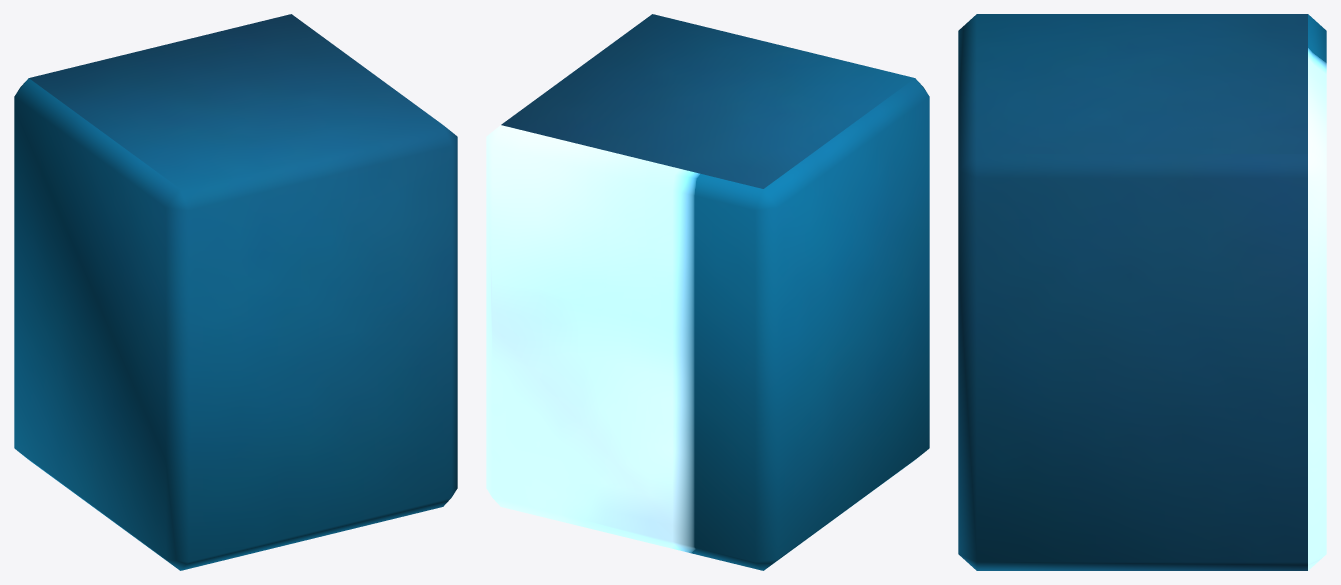
The model's file is iceBlock.gltf.
The picture shows the model from 3 angles, left to right: view 1: azimuth 30°, elevation 25°; view 2: azimuth 150°, elevation 25°; view 3: azimuth 270°, elevation 25°; orthographic projection. The views are drawn at different scales.
Visible parts, largest first — view 1: IceBlock; view 2: IceBlock; view 3: IceBlock.
Boxes of the visible parts, x1,y1,x2,y2 form: IceBlock: (14,14,457,570); IceBlock: (486,14,929,570); IceBlock: (958,14,1326,570).
Size of the model in its own units: 4 by 5 by 4.
Materials: 1 (1 with a texture image).
